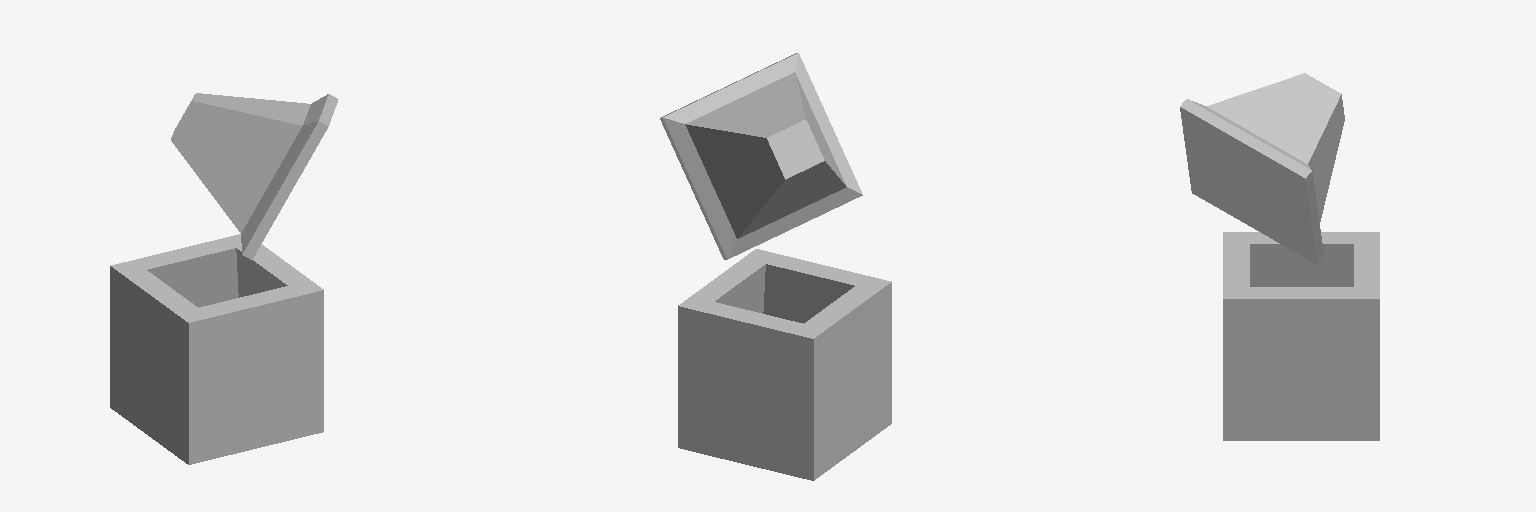
Rendered from AnimatedBox_000081.obj.
3 renders of one model, left to right at view 1: azimuth 30°, elevation 25°; view 2: azimuth 150°, elevation 25°; view 3: azimuth 270°, elevation 25°, orthographic.
Visible parts, largest first — view 1: Cube, Cube.001; view 2: Cube, Cube.001; view 3: Cube, Cube.001.
Part boxes in pixels (bbox=[...]): Cube: bbox=[110, 234, 323, 464]; Cube.001: bbox=[171, 93, 338, 259]; Cube: bbox=[678, 249, 891, 480]; Cube.001: bbox=[660, 53, 862, 259]; Cube: bbox=[1223, 232, 1379, 440]; Cube.001: bbox=[1180, 73, 1344, 264].
Size of the model in its own units: 2.82 by 4.65 by 2.56.